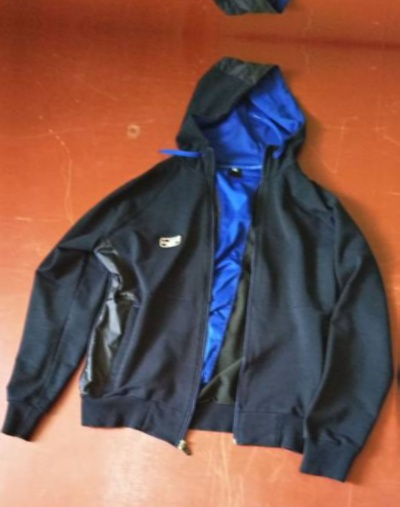Hoodie: (2, 27, 400, 480), (30, 0, 400, 43), (0, 2, 10, 454), (0, 0, 38, 18)
